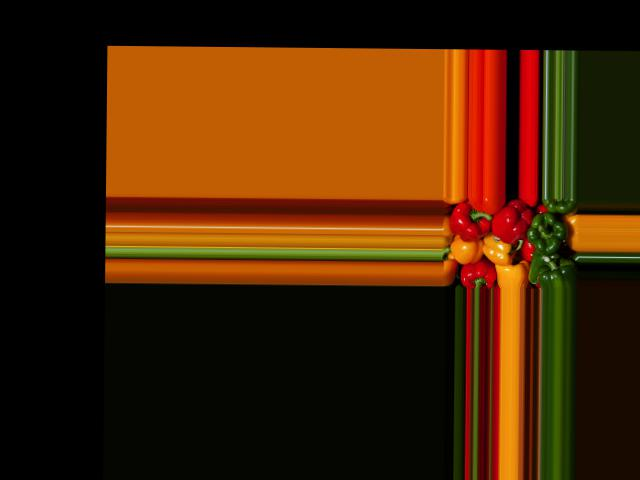bell_pepper: (541, 197, 578, 219)
